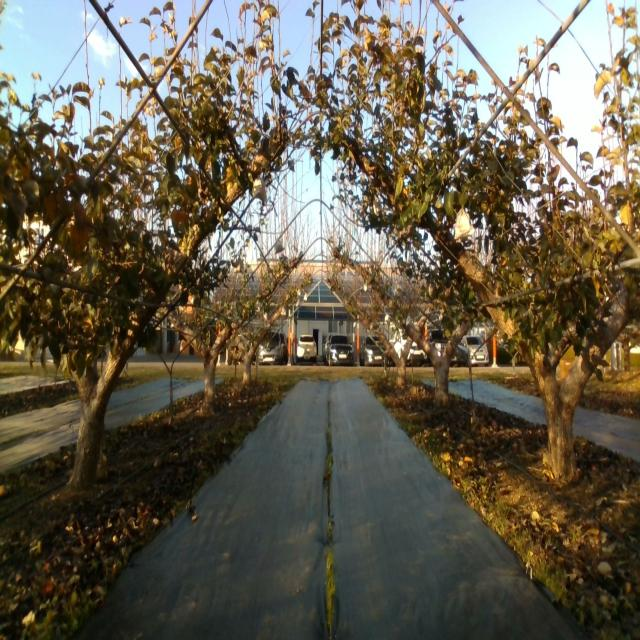pearbags: (454, 207, 474, 240), (252, 176, 268, 205)
